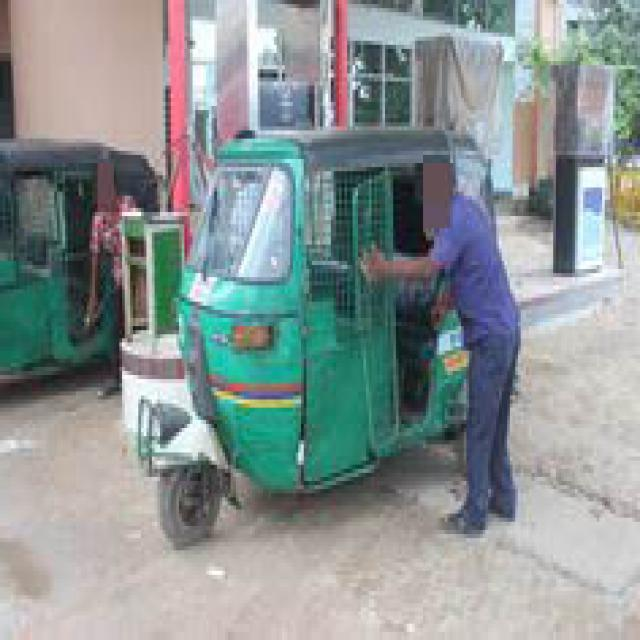CNG: (121, 108, 539, 552), (1, 115, 180, 403)
